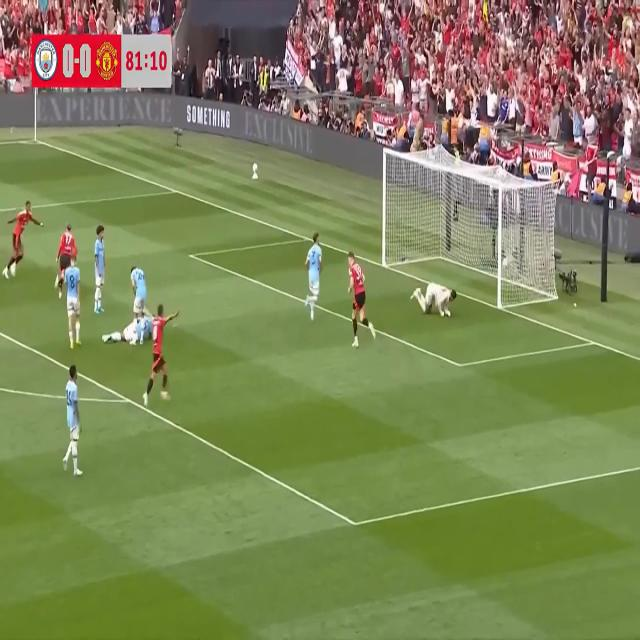ball: (501, 257, 513, 277)
goal_keeper: (410, 273, 460, 329)
players: (344, 243, 381, 359), (141, 299, 178, 409), (60, 354, 90, 486), (4, 193, 46, 287), (62, 250, 92, 356), (50, 218, 80, 304), (102, 312, 164, 351), (303, 227, 325, 327), (125, 261, 150, 346), (91, 218, 111, 320)
